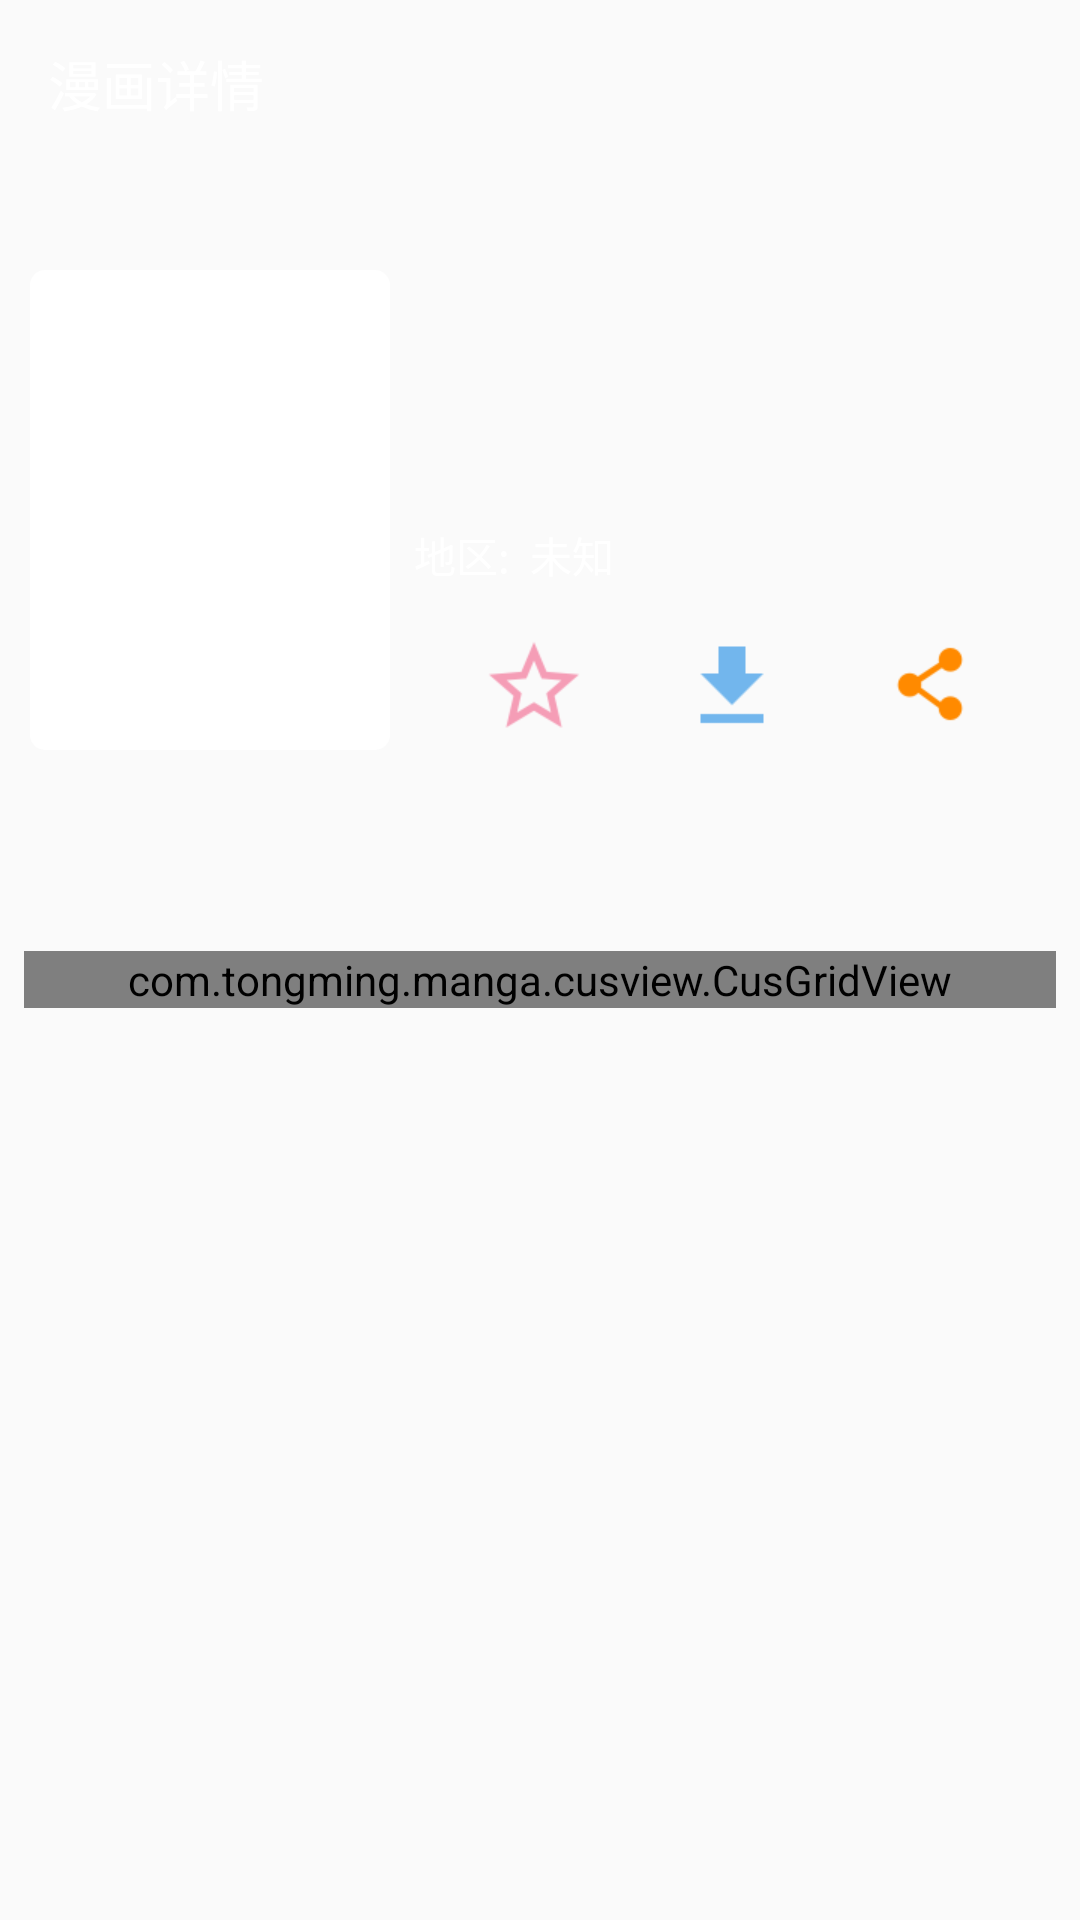

Point at icon controls on the screen. Image size 1080 × 1920, points as [x,y].
download: [732,684]
select collect: [534,685]
share: [930,684]
